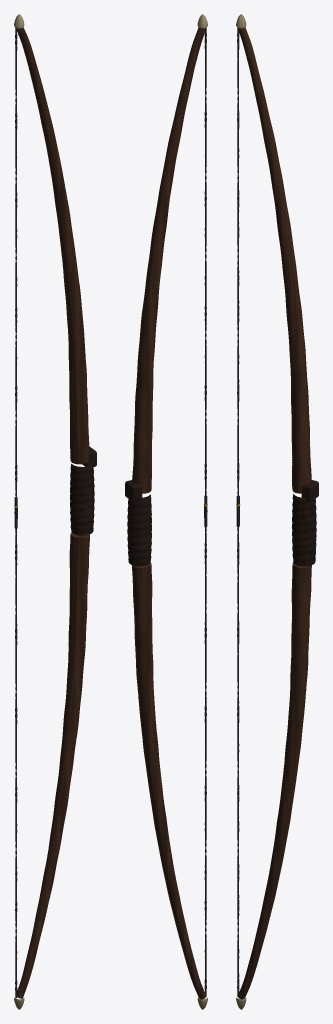
Rendered from longbow.glb.
3 renders of one model, left to right at view 1: azimuth 30°, elevation 25°; view 2: azimuth 210°, elevation 25°; view 3: azimuth 330°, elevation 25°, orthographic.
Parts seen in each view (by area): view 1: wood / oiled hardwood, cord / waxed silk cord wrap, leather / oiled leather wrap; view 2: wood / oiled hardwood, cord / waxed silk cord wrap, leather / oiled leather wrap; view 3: wood / oiled hardwood, cord / waxed silk cord wrap, leather / oiled leather wrap.
Part boxes in pixels (box(x1,y1,x2,y2)): wood / oiled hardwood: box(17, 27, 89, 998); cord / waxed silk cord wrap: box(14, 28, 17, 998); leather / oiled leather wrap: box(70, 447, 96, 535); wood / oiled hardwood: box(132, 27, 206, 999); cord / waxed silk cord wrap: box(204, 28, 207, 996); leather / oiled leather wrap: box(125, 480, 151, 566); wood / oiled hardwood: box(238, 27, 311, 999); cord / waxed silk cord wrap: box(236, 28, 239, 996); leather / oiled leather wrap: box(292, 480, 318, 566).
Size of the model in its own units: 0.1565 by 1.89 by 0.0428.
Materials: 8 (5 with a texture image).
